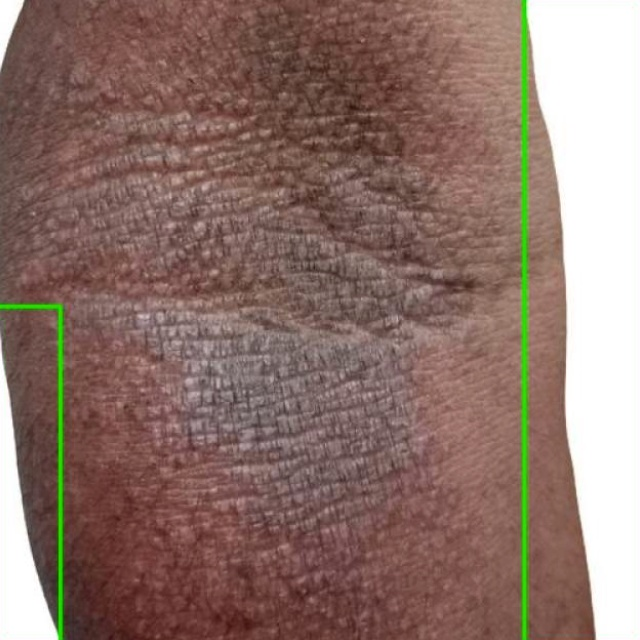Eczema: (524, 0, 639, 639), (0, 306, 60, 639)
